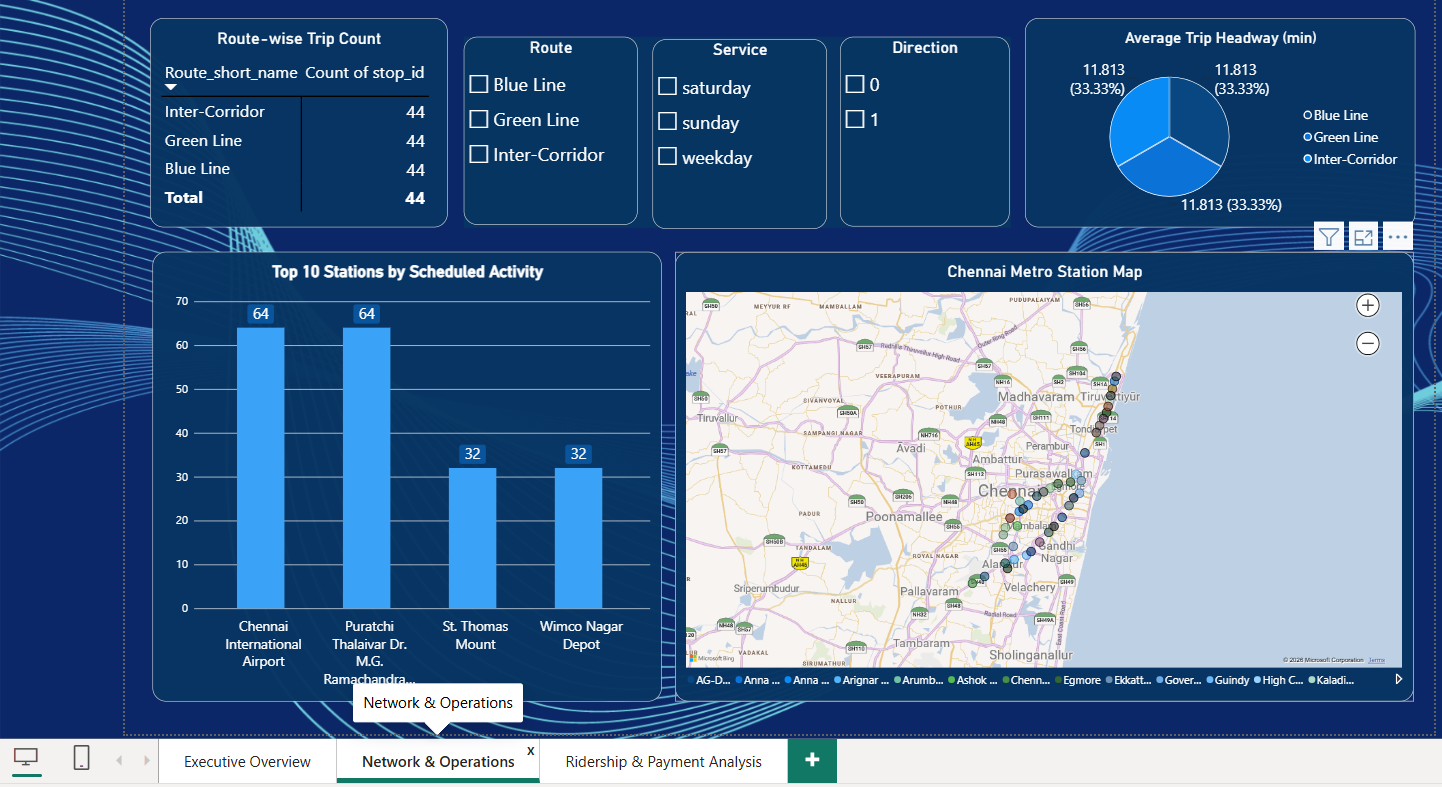

The dashboard page shown, as its layout file describes it:
{"tool":"powerbi","page":{"name":"Network & Operations","canvas":[1920,1080],"ordinal":1},"visuals":[{"type":"columnChart","title":"Top 10 Stations by Scheduled Activity","fields":{"Category":["stops.stop_name"],"Y":["CountNonNull(stop_times.stop_id)"]},"box":[40,372.5,747.5,660],"z":0},{"type":"pivotTable","title":"Route-wise Trip Count ","fields":{"Rows":["routes.route_short_name"],"Values":["Count(stops.stop_id)"]},"box":[36.6,29.3,436.6,307.3],"z":1000},{"type":"pieChart","title":"Average Trip Headway (min)","fields":{"Category":["routes.route_short_name"],"Y":["Measures_table.Average Headway(min)"]},"box":[1320,30,572.5,307.5],"z":3000},{"type":"map","title":"Chennai Metro Station Map","fields":{"Series":["stops.stop_name"],"X":["stops.stop_lon"],"Y":["stops.stop_lat"]},"box":[807.2,372.2,1084.2,660.1],"z":4000},{"type":"group","id":"g1","title":"Group 1","box":[497.8,56.3,800.7,281.3],"z":5000},{"type":"slicer","title":"Service","fields":{"Values":["trips.service_id"]},"box":[774.2,59.2,256.1,278],"z":5000,"group":"g1"},{"type":"slicer","title":"Route ","fields":{"Values":["routes.route_short_name"]},"box":[497.8,56.3,254.9,275.6],"z":6000,"group":"g1"},{"type":"slicer","title":"Direction","fields":{"Values":["trips.direction_id"]},"box":[1049.8,56.7,248.8,278],"z":7000,"group":"g1"}]}

Visuals, with their boxes on the page's 1920x1080 design canvas (x1, y1, x2, y2). These are canvas units, not pixel positions in the 1442x787 screenshot, which may show the page scaled, cropped or inside an application window:
"Top 10 Stations by Scheduled Activity" columnChart: 40,372,788,1032
"Route-wise Trip Count " pivotTable: 37,29,473,337
"Average Trip Headway (min)" pieChart: 1320,30,1892,338
"Chennai Metro Station Map" map: 807,372,1891,1032
"Group 1" group: 498,56,1298,338
"Service" slicer: 774,59,1030,337
"Route " slicer: 498,56,753,332
"Direction" slicer: 1050,57,1299,335
